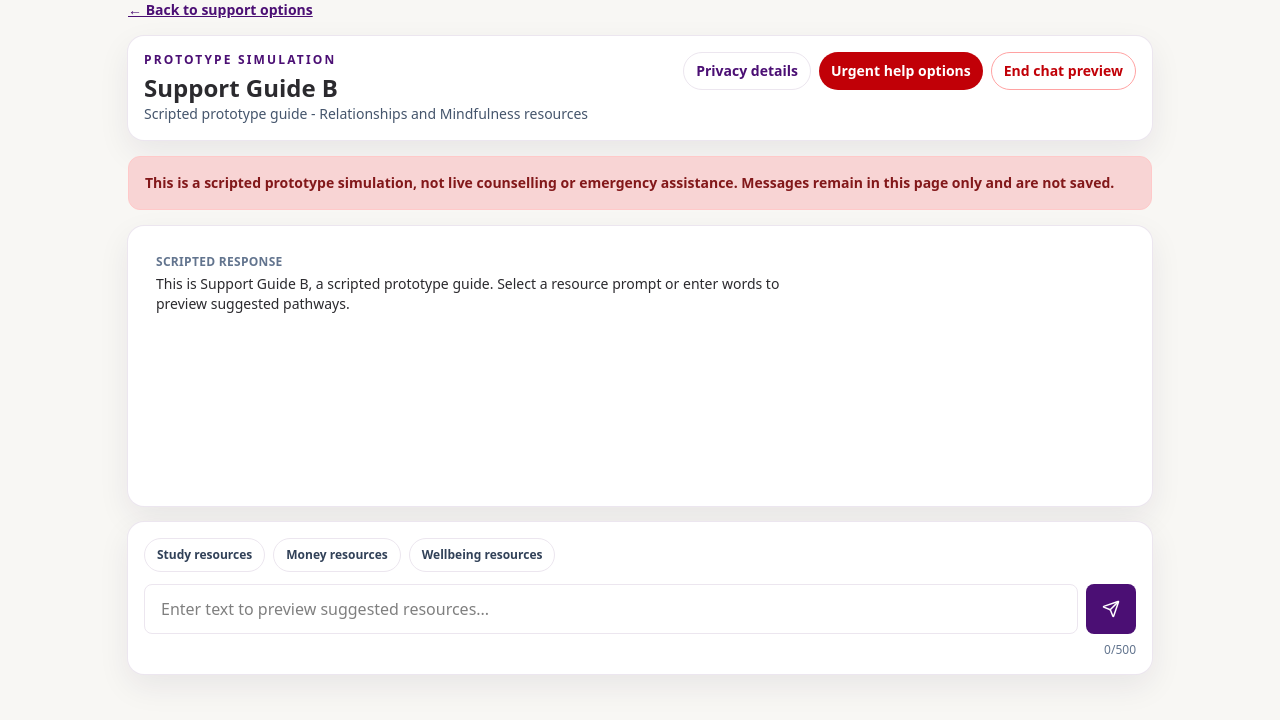
Test: Queue and simulated chat safety flows › shows neutral suggestions for non-crisis prompts and confirms ending
The width and height of the screenshot is (1280, 720).
Expected: the heading "Support Guide B" is shown, x1=144 y1=71 x2=338 y2=104
Click the button "Study resources". click: [205, 555]
box: x1=144 y1=538 x2=265 y2=572
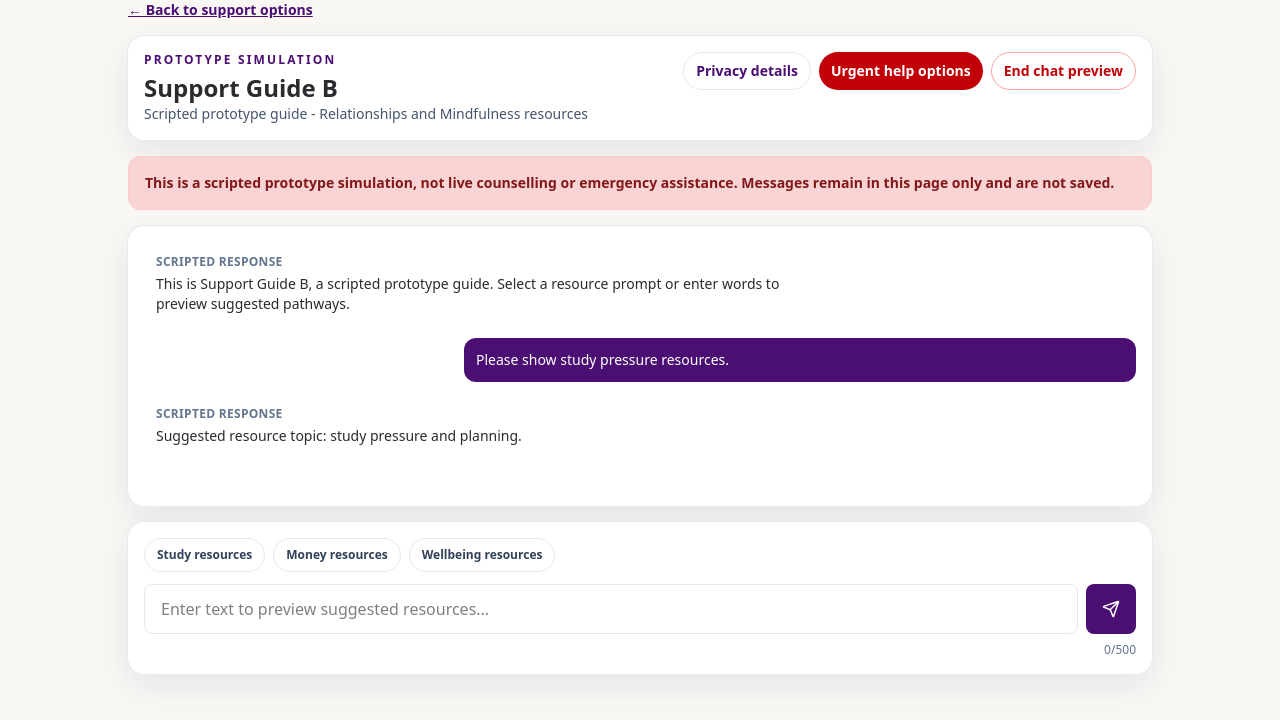
Expected: the text "Suggested resource topic: study pressure and planning." is shown, x1=156 y1=426 x2=522 y2=445
Click the button "End chat preview". click: [1063, 71]
box: x1=991 y1=52 x2=1136 y2=90
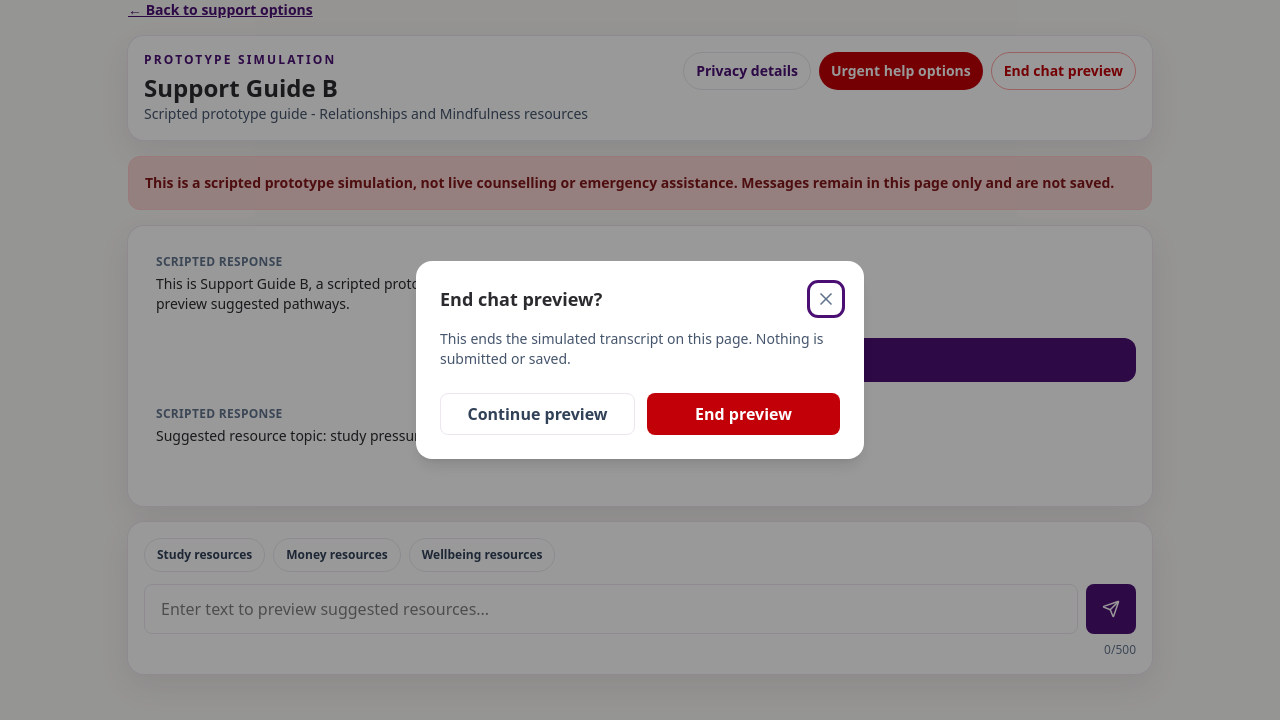
Expected: the dialog "End chat preview" is shown, x1=416 y1=261 x2=864 y2=459
Click the button "End preview". click: [744, 414]
box: x1=647 y1=393 x2=840 y2=435
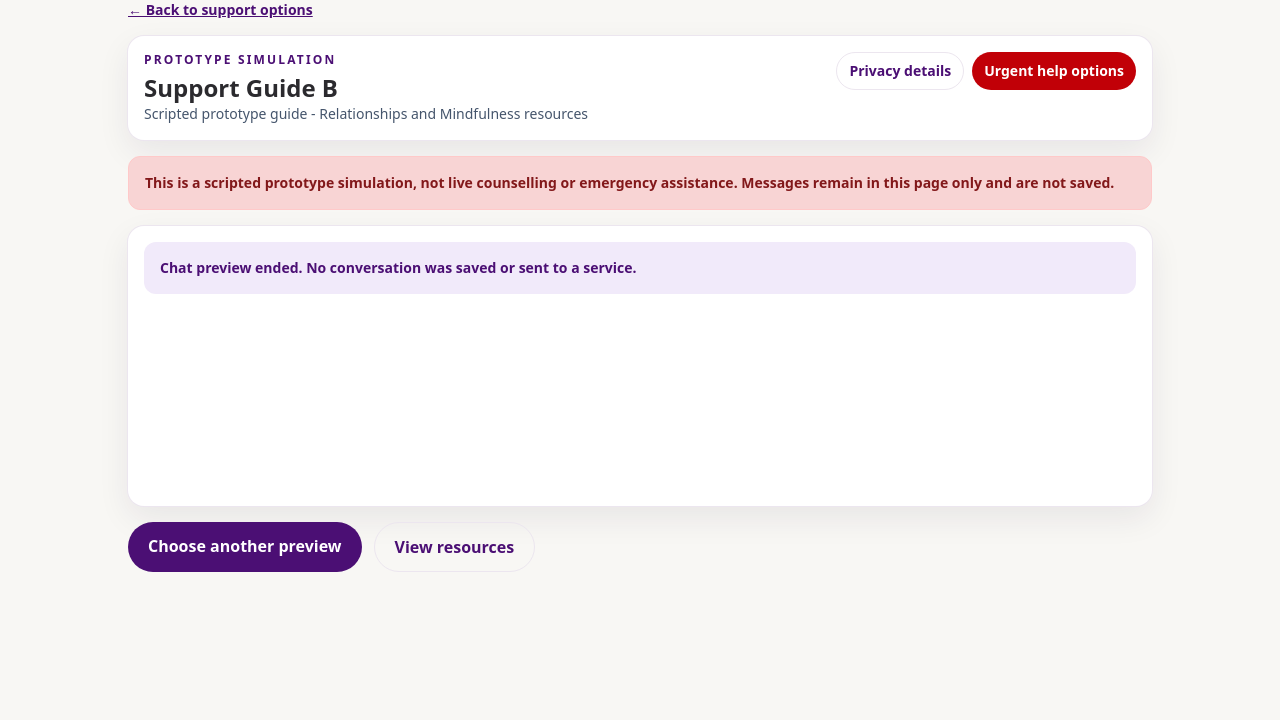
Expected: the text "Chat preview ended. No conversation was saved or sent to a service." is shown, x1=144 y1=242 x2=1136 y2=294
Expected: the text "Please show study pressure resources" is gone
